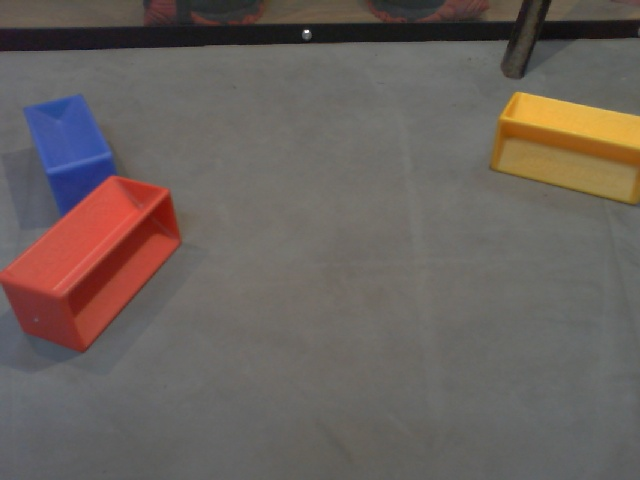BlueSample: (22, 91, 116, 223)
RedSample: (1, 171, 180, 354)
YellowSample: (484, 88, 640, 212)
